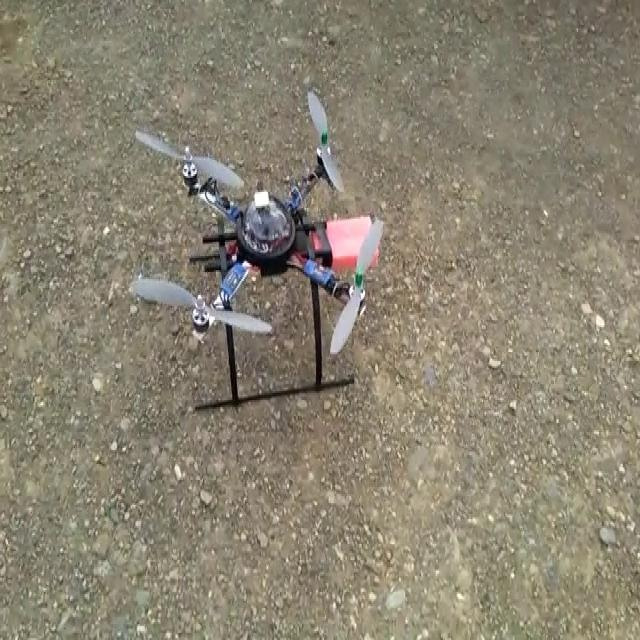drone: (136, 80, 385, 411)
